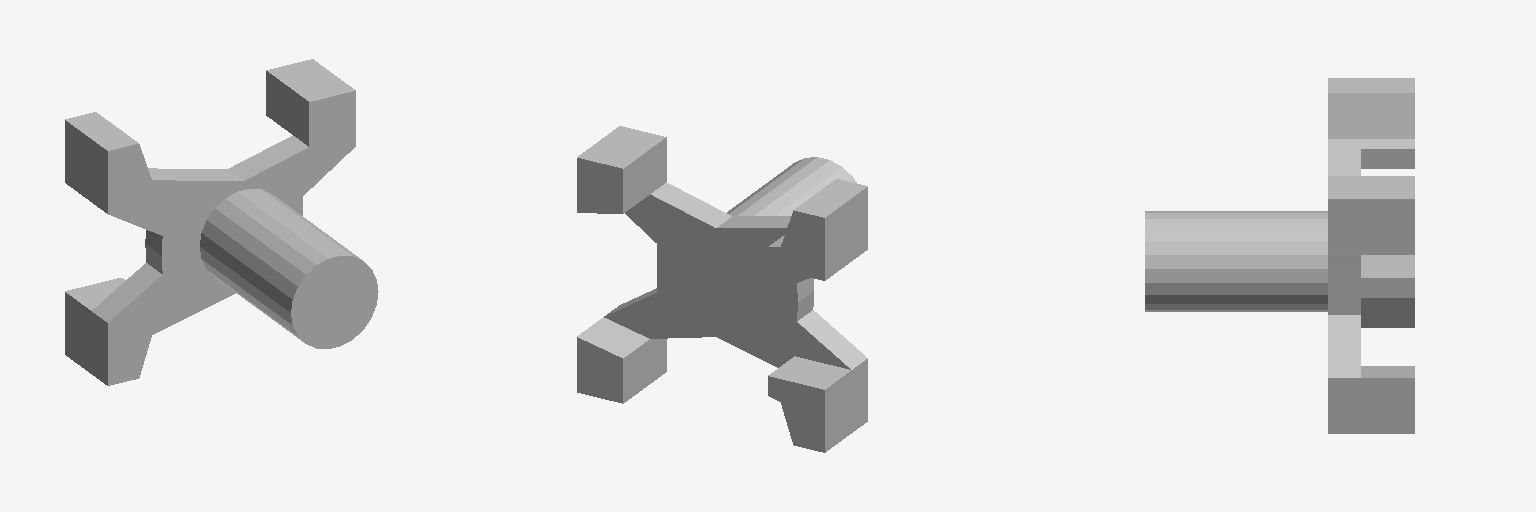
Rendered from pedestal_collision.obj.
3 views of the same model, side by side, from view 1: azimuth 30°, elevation 25°; view 2: azimuth 150°, elevation 25°; view 3: azimuth 270°, elevation 25° (orthographic).
Parts seen in each view (by area): view 1: Pedestal_Collision; view 2: Pedestal_Collision; view 3: Pedestal_Collision.
Boxes of the visible parts, <box> form: Pedestal_Collision: <box>65,59,378,385</box>; Pedestal_Collision: <box>577,126,867,452</box>; Pedestal_Collision: <box>1145,78,1414,433</box>.
Size of the model in its own units: 0.919 by 0.8313 by 0.8627.